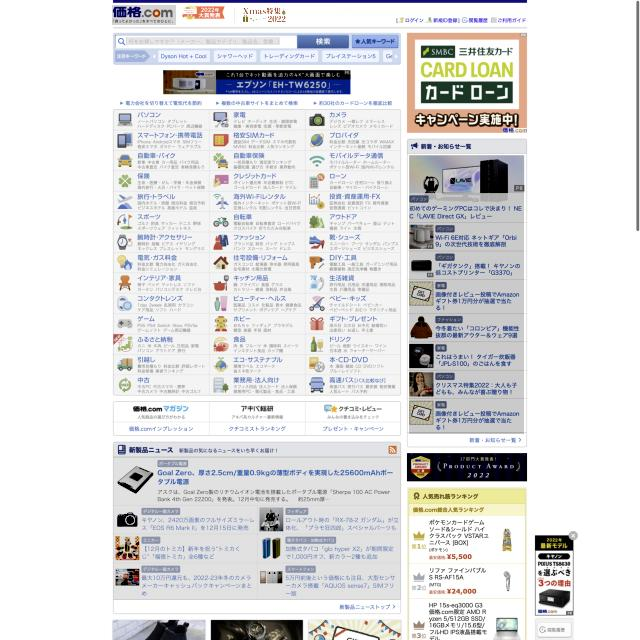CheckBox: (297, 35, 349, 48), (352, 35, 398, 48)
CheckedTextView: (115, 35, 349, 48)
ImageView: (163, 70, 350, 94), (407, 453, 527, 482)
QR code: (113, 456, 401, 600), (409, 155, 524, 434)
RadioButton: (240, 6, 289, 24), (182, 5, 228, 24)
carousel: (116, 37, 127, 47)
date picker: (112, 5, 176, 25)
decoration: (113, 109, 400, 395), (396, 18, 527, 26)
footer: (127, 37, 280, 45)
